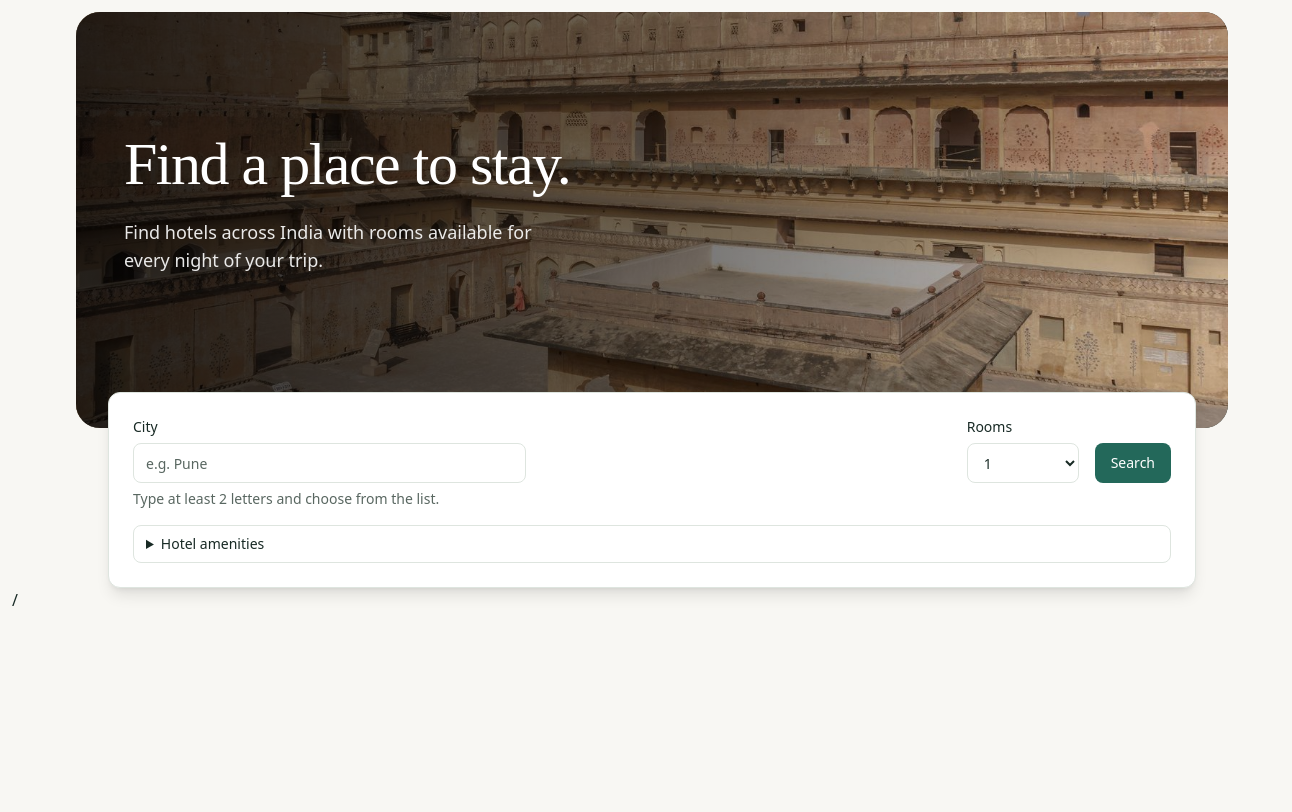
the search form › takes the user to the results with the search in the URL
In the dropdown labelled "City": {"x": 329, "y": 463} [133,443,526,483], type "Pan"
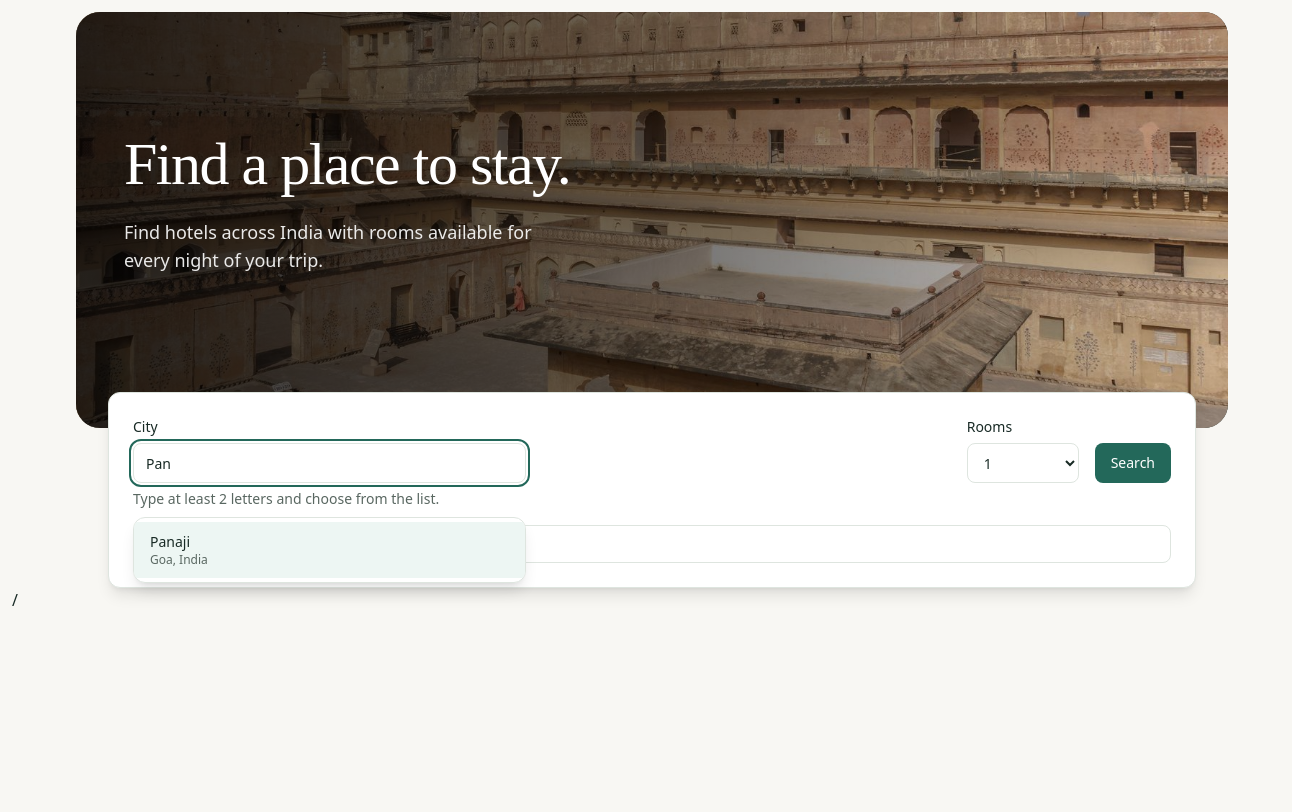
Click the option with aria-label "Panaji, Goa, India": {"x": 170, "y": 542} [134,522,525,578]
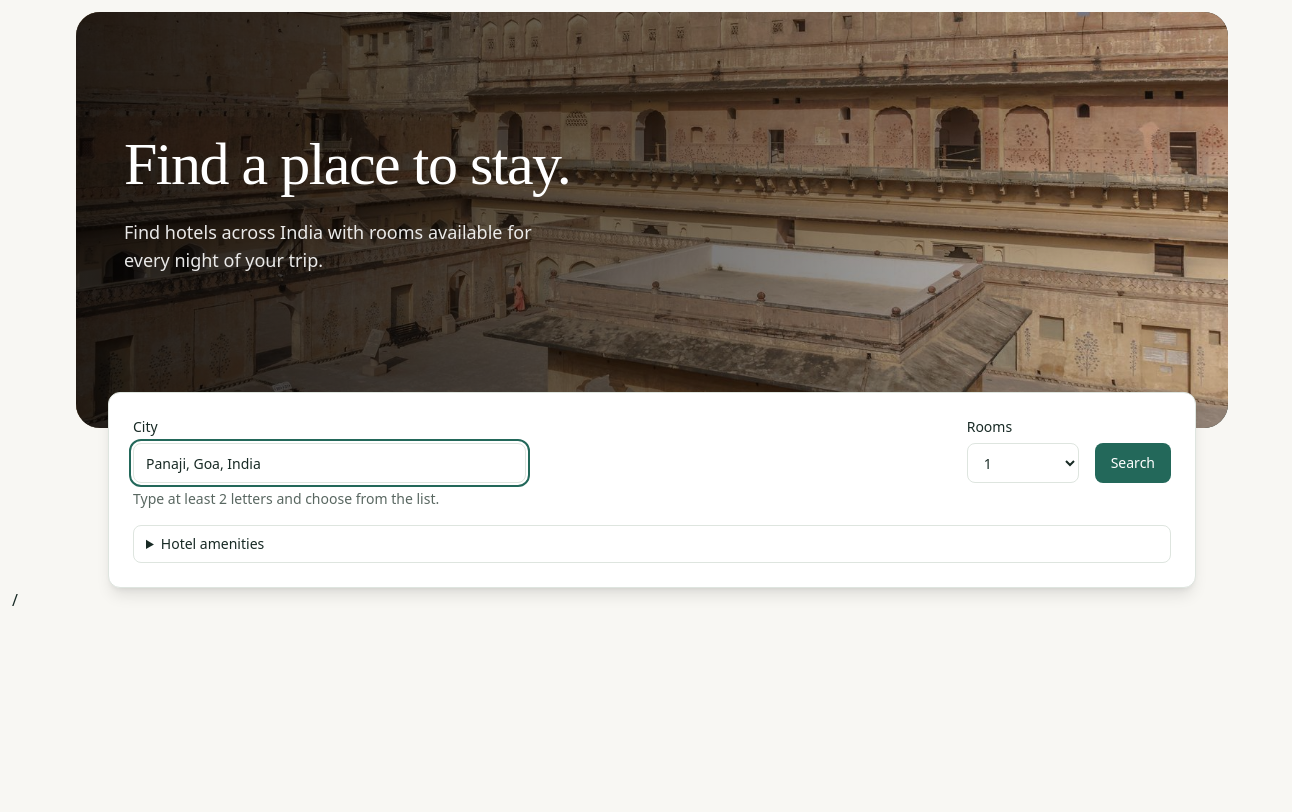
Select "3" in the dropdown labelled "Rooms": {"x": 1023, "y": 463} [967,443,1079,483]
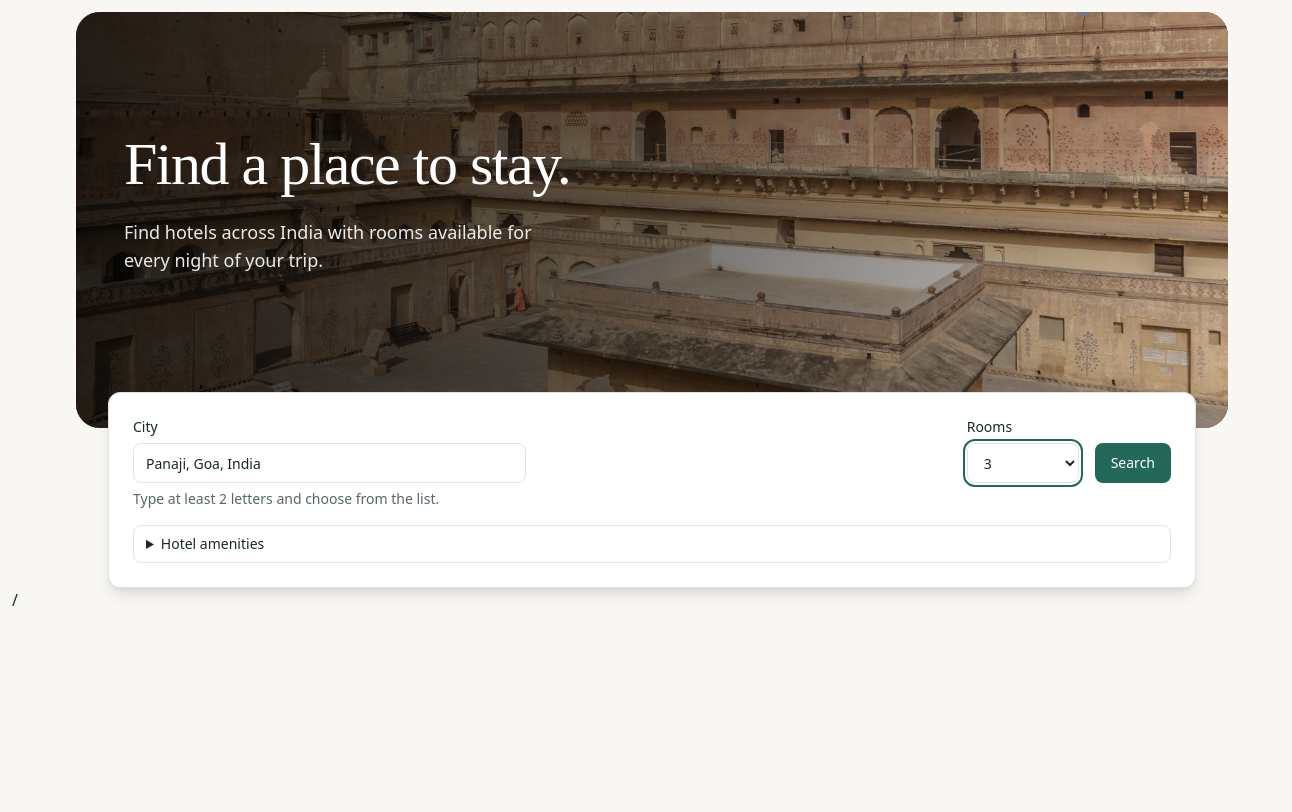
Click the button "Search": {"x": 1133, "y": 463} [1095,443,1171,483]
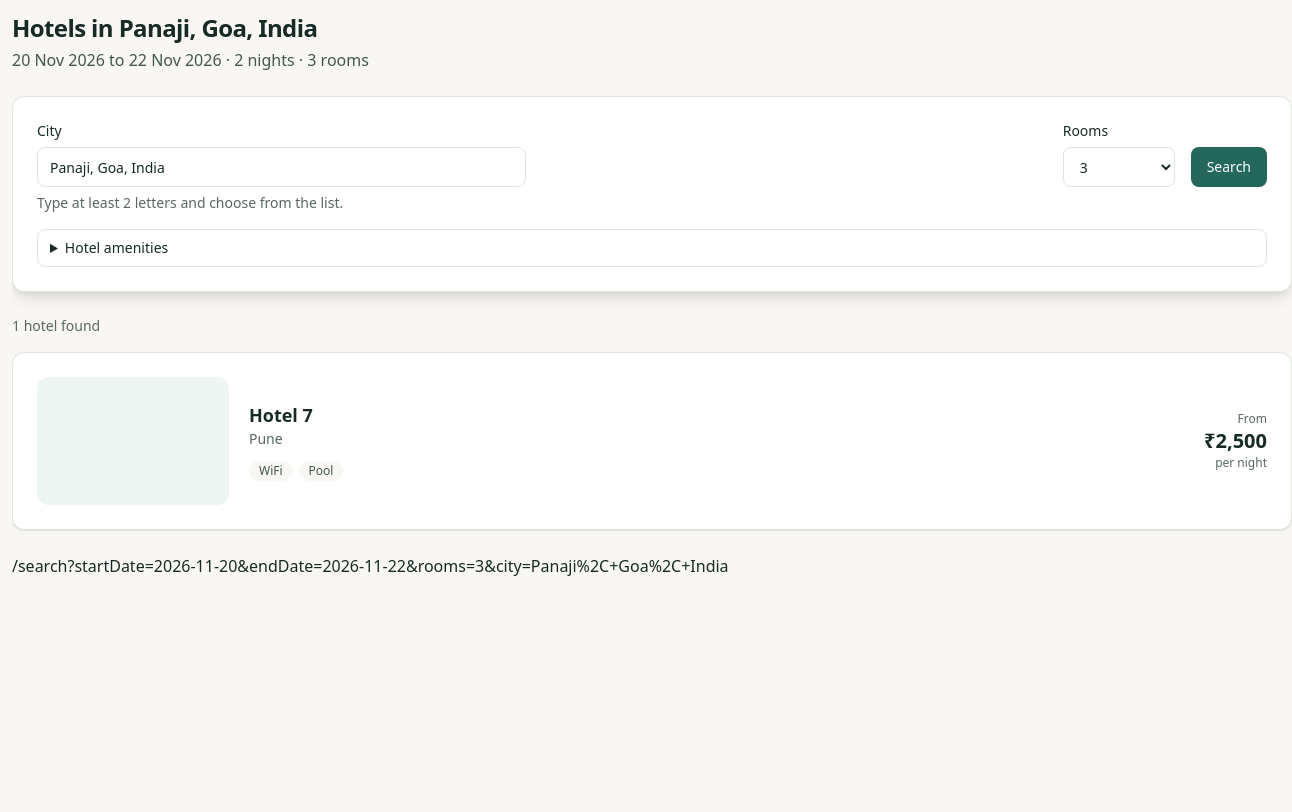
Expected: the text with test id "where" shows "/search?", [12,555,729,577]
